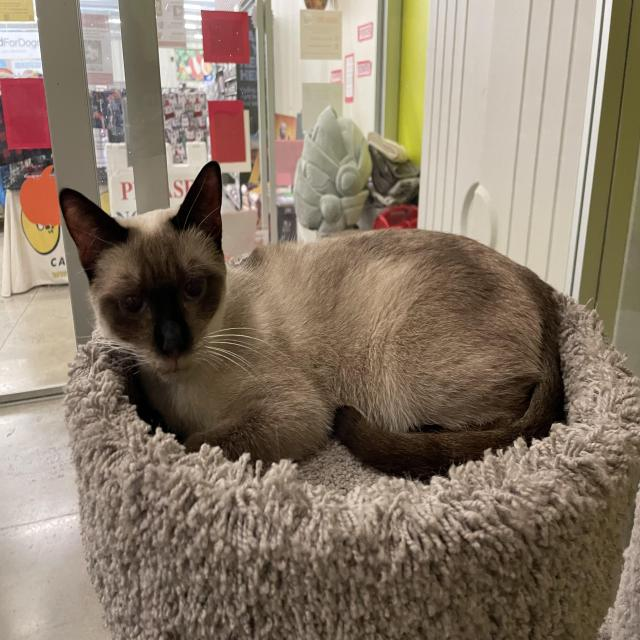siamese_cat: (53, 153, 241, 397)
